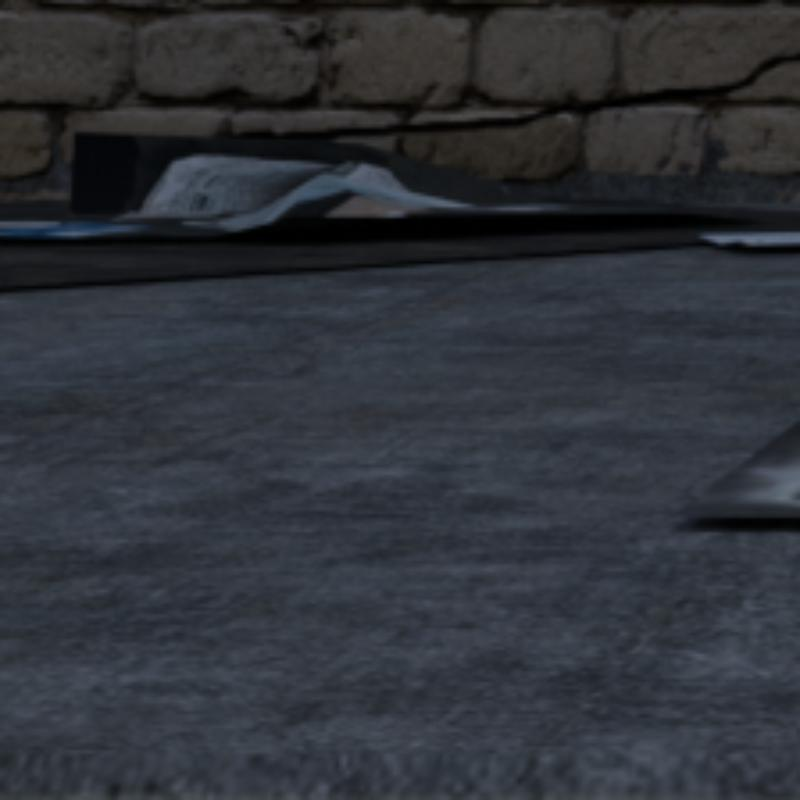crack: (218, 54, 796, 136)
